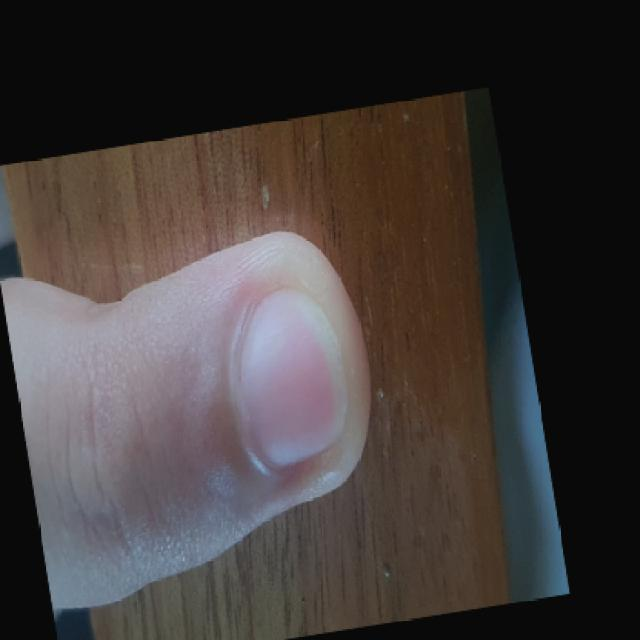Nail: (229, 289, 346, 472)
